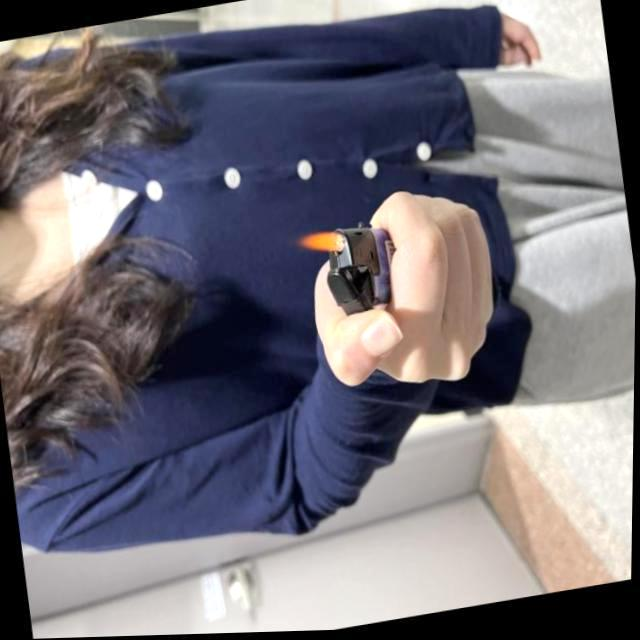fire: (288, 231, 346, 261)
